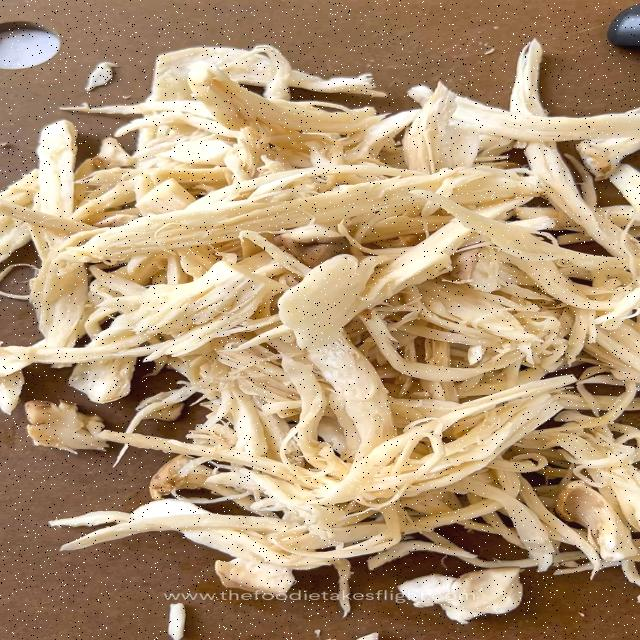Mushroom: (14, 98, 640, 504)
